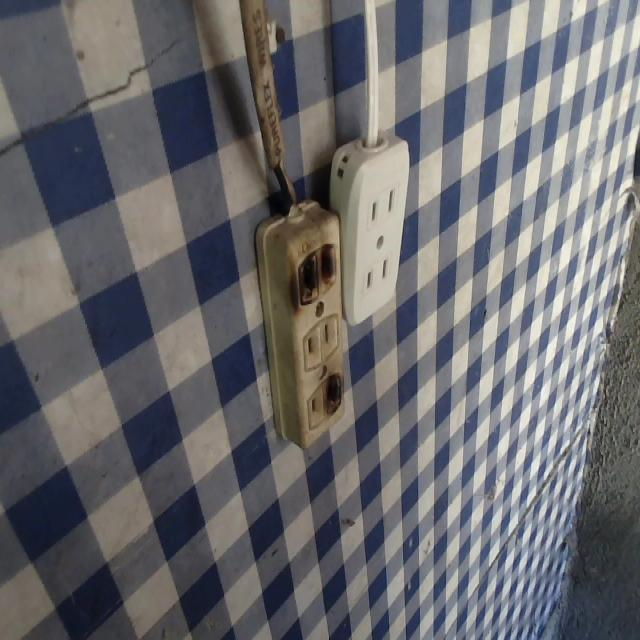-: (287, 240, 339, 305), (319, 372, 347, 417)
